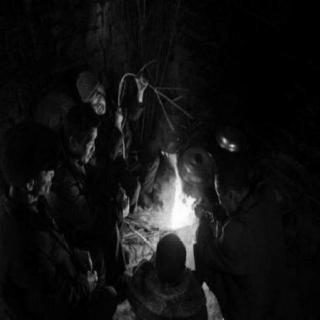Fire: (162, 163, 200, 241)
